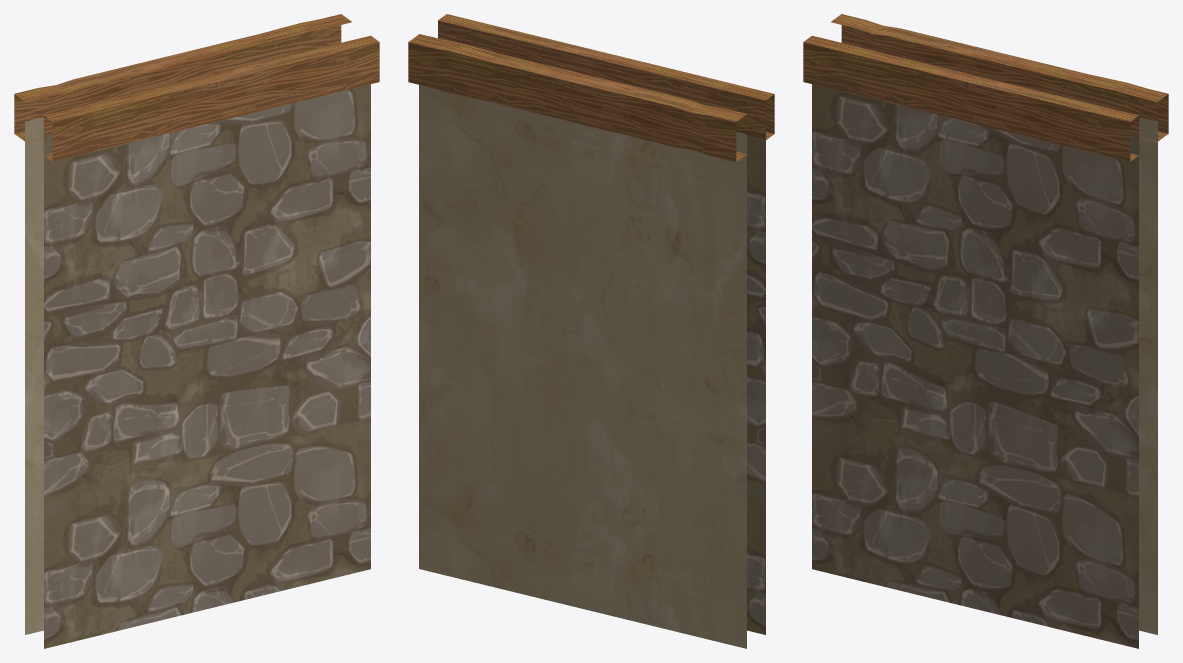
The model's file is wall_brick_straight.glb.
3 renders of one model, left to right at view 1: azimuth 30°, elevation 25°; view 2: azimuth 150°, elevation 25°; view 3: azimuth 330°, elevation 25°, orthographic.
Visible parts, largest first — view 1: Wall_UnevenBrick_Straight; view 2: Wall_UnevenBrick_Straight; view 3: Wall_UnevenBrick_Straight.
Boxes of the visible parts, <box> form: Wall_UnevenBrick_Straight: <box>14,14,379,648</box>; Wall_UnevenBrick_Straight: <box>408,14,774,648</box>; Wall_UnevenBrick_Straight: <box>803,14,1168,648</box>.
Bounding box in the file's own units: 2 × 3.12 × 0.4064.
Materials: 3 (3 with a texture image).
